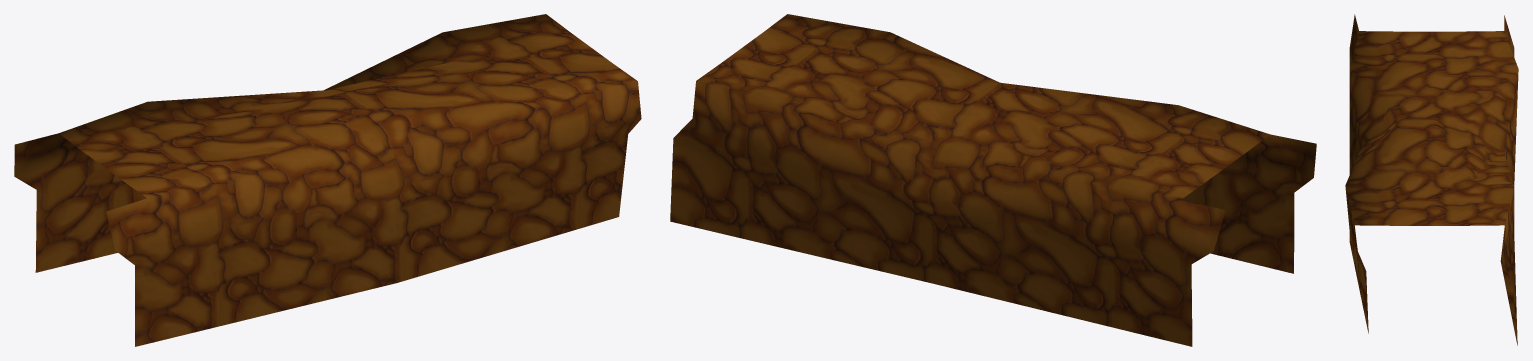
File: ConnectorWallEdited.fbx
3 views of the same model, side by side, from view 1: azimuth 30°, elevation 25°; view 2: azimuth 150°, elevation 25°; view 3: azimuth 270°, elevation 25° (orthographic). The views are drawn at different scales.
Parts seen in each view (by area): view 1: polySurface10; view 2: polySurface10; view 3: polySurface10.
Part boxes in pixels (box(x1,y1,x2,y2)): polySurface10: box(14, 14, 641, 346); polySurface10: box(670, 14, 1316, 346); polySurface10: box(1345, 14, 1518, 345).
Bounding box in the file's own units: 2.38 × 0.6235 × 0.7965.
